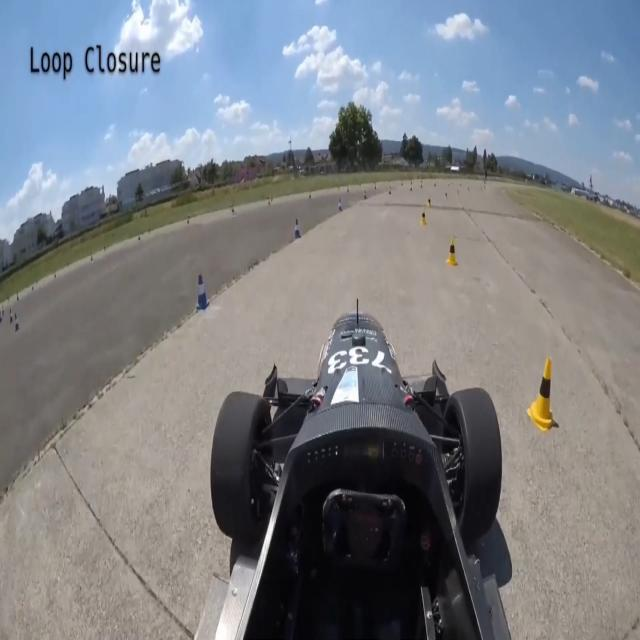blue_cone: (195, 270, 211, 314), (294, 217, 302, 242), (14, 313, 20, 334), (8, 306, 14, 327), (336, 197, 343, 213)
yellow_cone: (526, 351, 561, 433), (445, 238, 460, 268), (420, 210, 428, 228), (426, 196, 432, 208)
